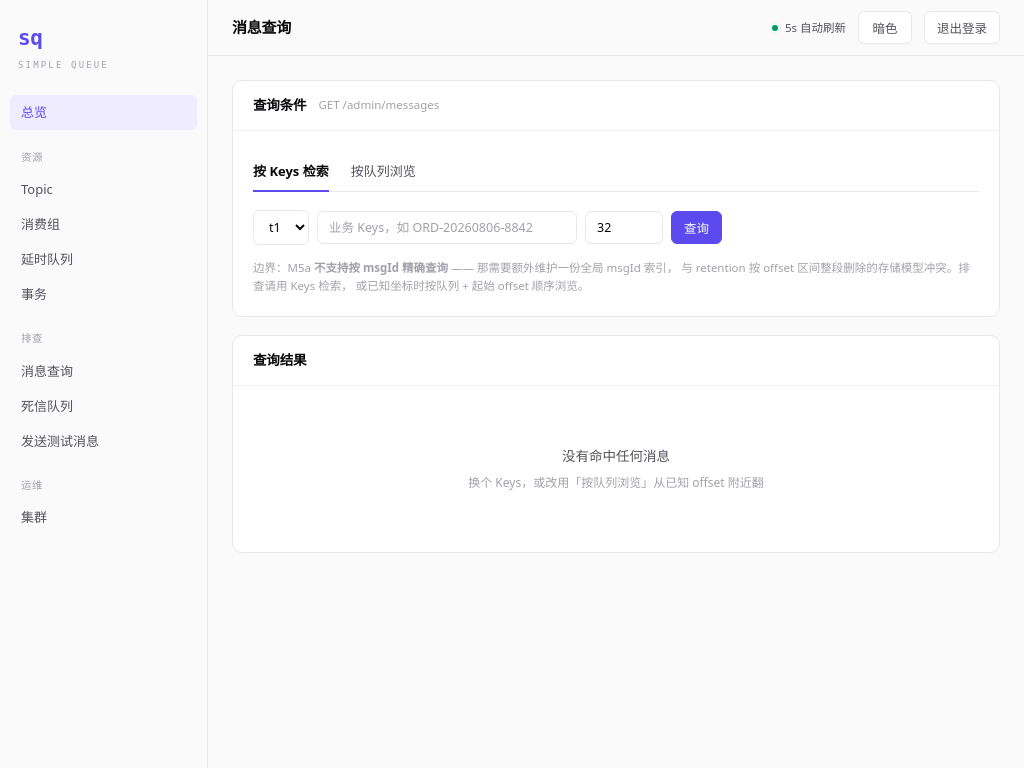
Scenario: Messages › 切到按队列浏览后查询走 queue_id，而不是沿用 Keys 输入框里的内容
先在「按 Keys 检索」里输入内容，再切到「按队列浏览」查询
Type "ORD-1" into the field with placeholder "业务 Keys，如 ORD-20260806-8842" at (447, 227), box [317, 211, 577, 244]
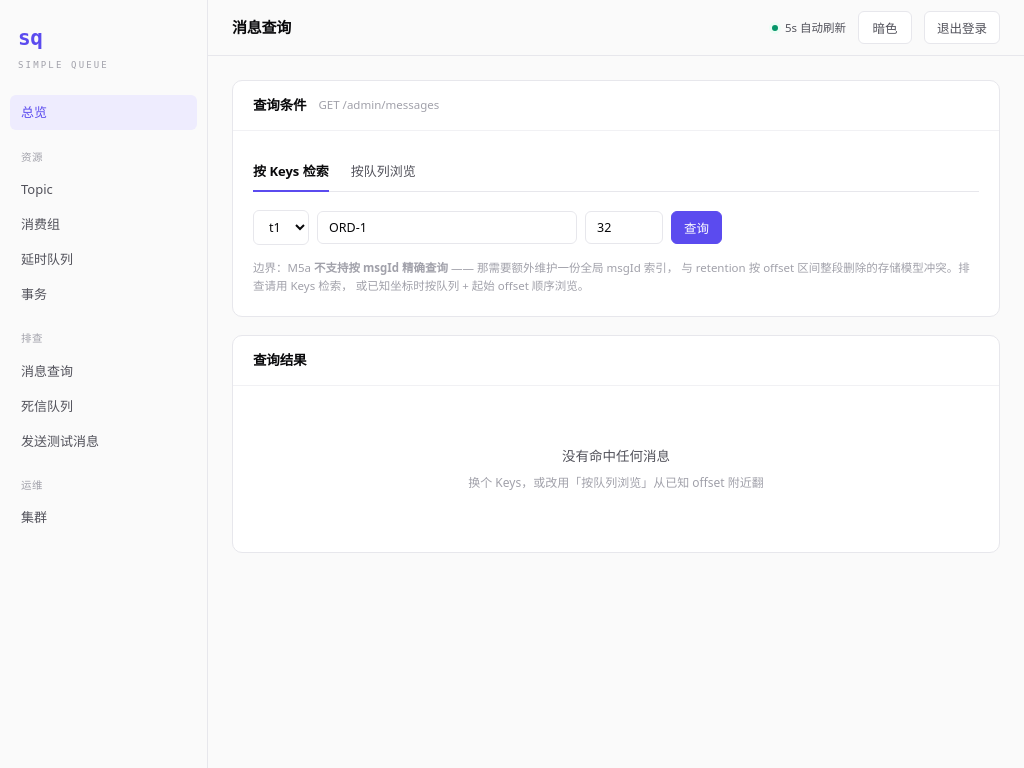
Click the button "按队列浏览" at (383, 171), box [351, 151, 416, 192]
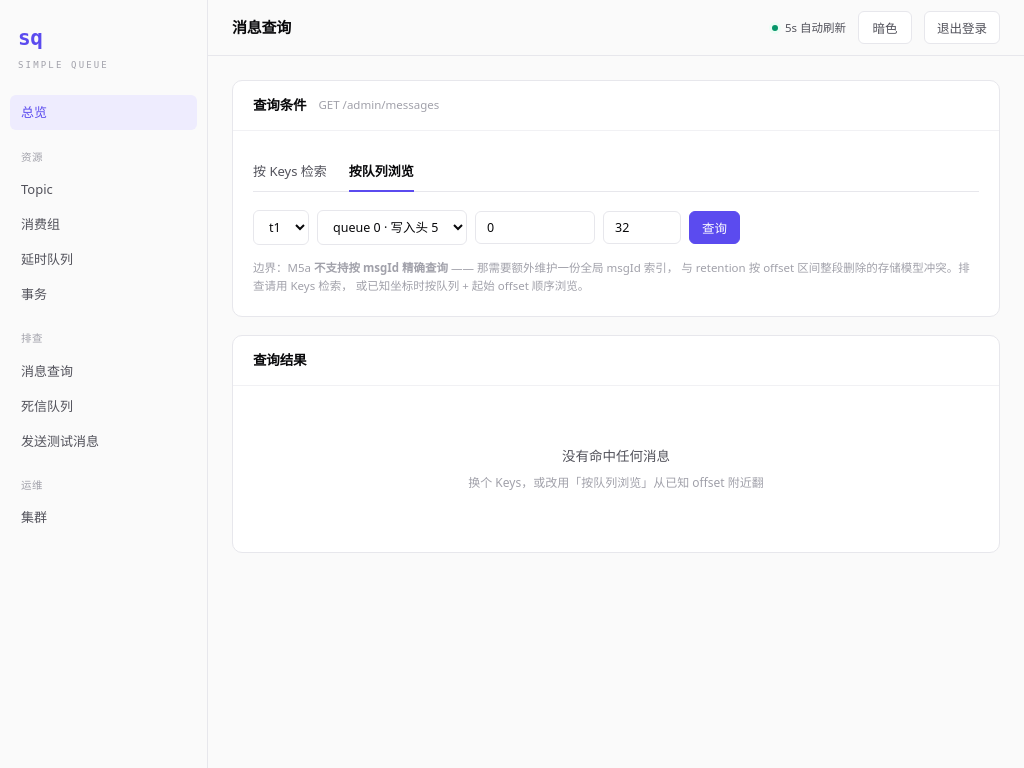
Click the button "查询" at (714, 227), box [689, 211, 740, 244]
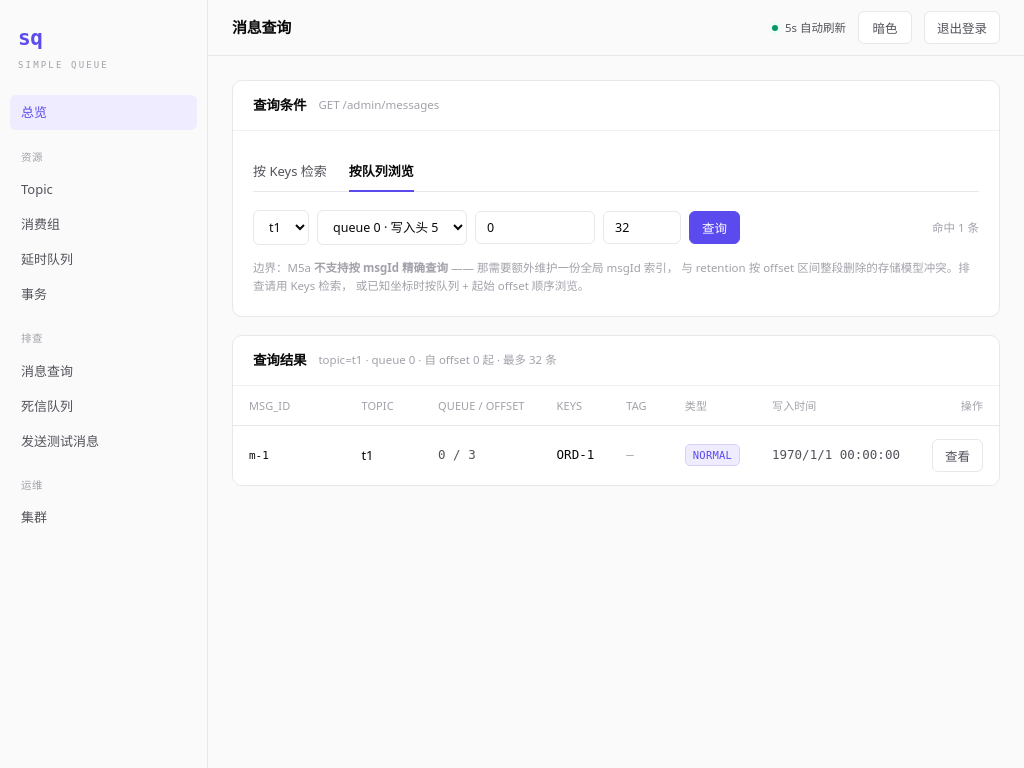
Expected: the text "topic=t1 · queue 0 · 自 offset 0 起 · 最多 32 条" is shown, [318, 351, 557, 369]
